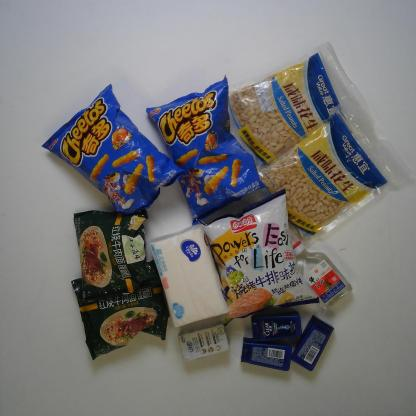Alcohol: (291, 239, 355, 309)
Dried Fruit: (257, 94, 404, 247), (226, 40, 377, 166)
Instant Noodles: (70, 259, 170, 363), (70, 207, 158, 300)
Milk: (176, 320, 232, 364)
Personal Hygiene: (290, 314, 336, 374), (238, 334, 294, 373), (248, 310, 304, 344)
Puffed Food: (39, 81, 188, 215), (145, 72, 269, 228), (194, 186, 322, 328)
Tissue: (148, 222, 231, 330)
